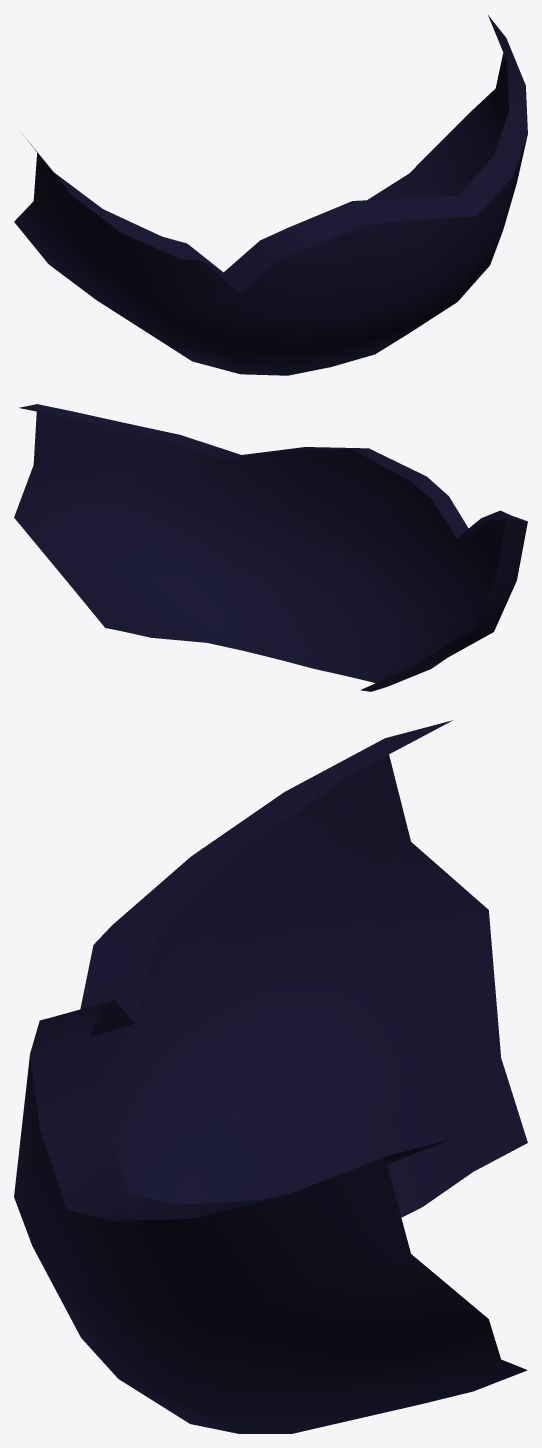
File: skeleton_archer_skull_mask.obj
3 renders of one model, top to bottom at view 1: azimuth 30°, elevation 25°; view 2: azimuth 150°, elevation 25°; view 3: azimuth 270°, elevation 25°, orthographic. The views are drawn at different scales.
Visible parts, largest first — view 1: character_skeleton_archer_mask; view 2: character_skeleton_archer_mask; view 3: character_skeleton_archer_mask.
Part boxes in pixels (<box>): character_skeleton_archer_mask: <box>14,15,527,375</box>; character_skeleton_archer_mask: <box>14,404,527,691</box>; character_skeleton_archer_mask: <box>14,720,527,1433</box>.
Bounding box in the file's own units: 0.8982 × 0.4556 × 0.4662.
